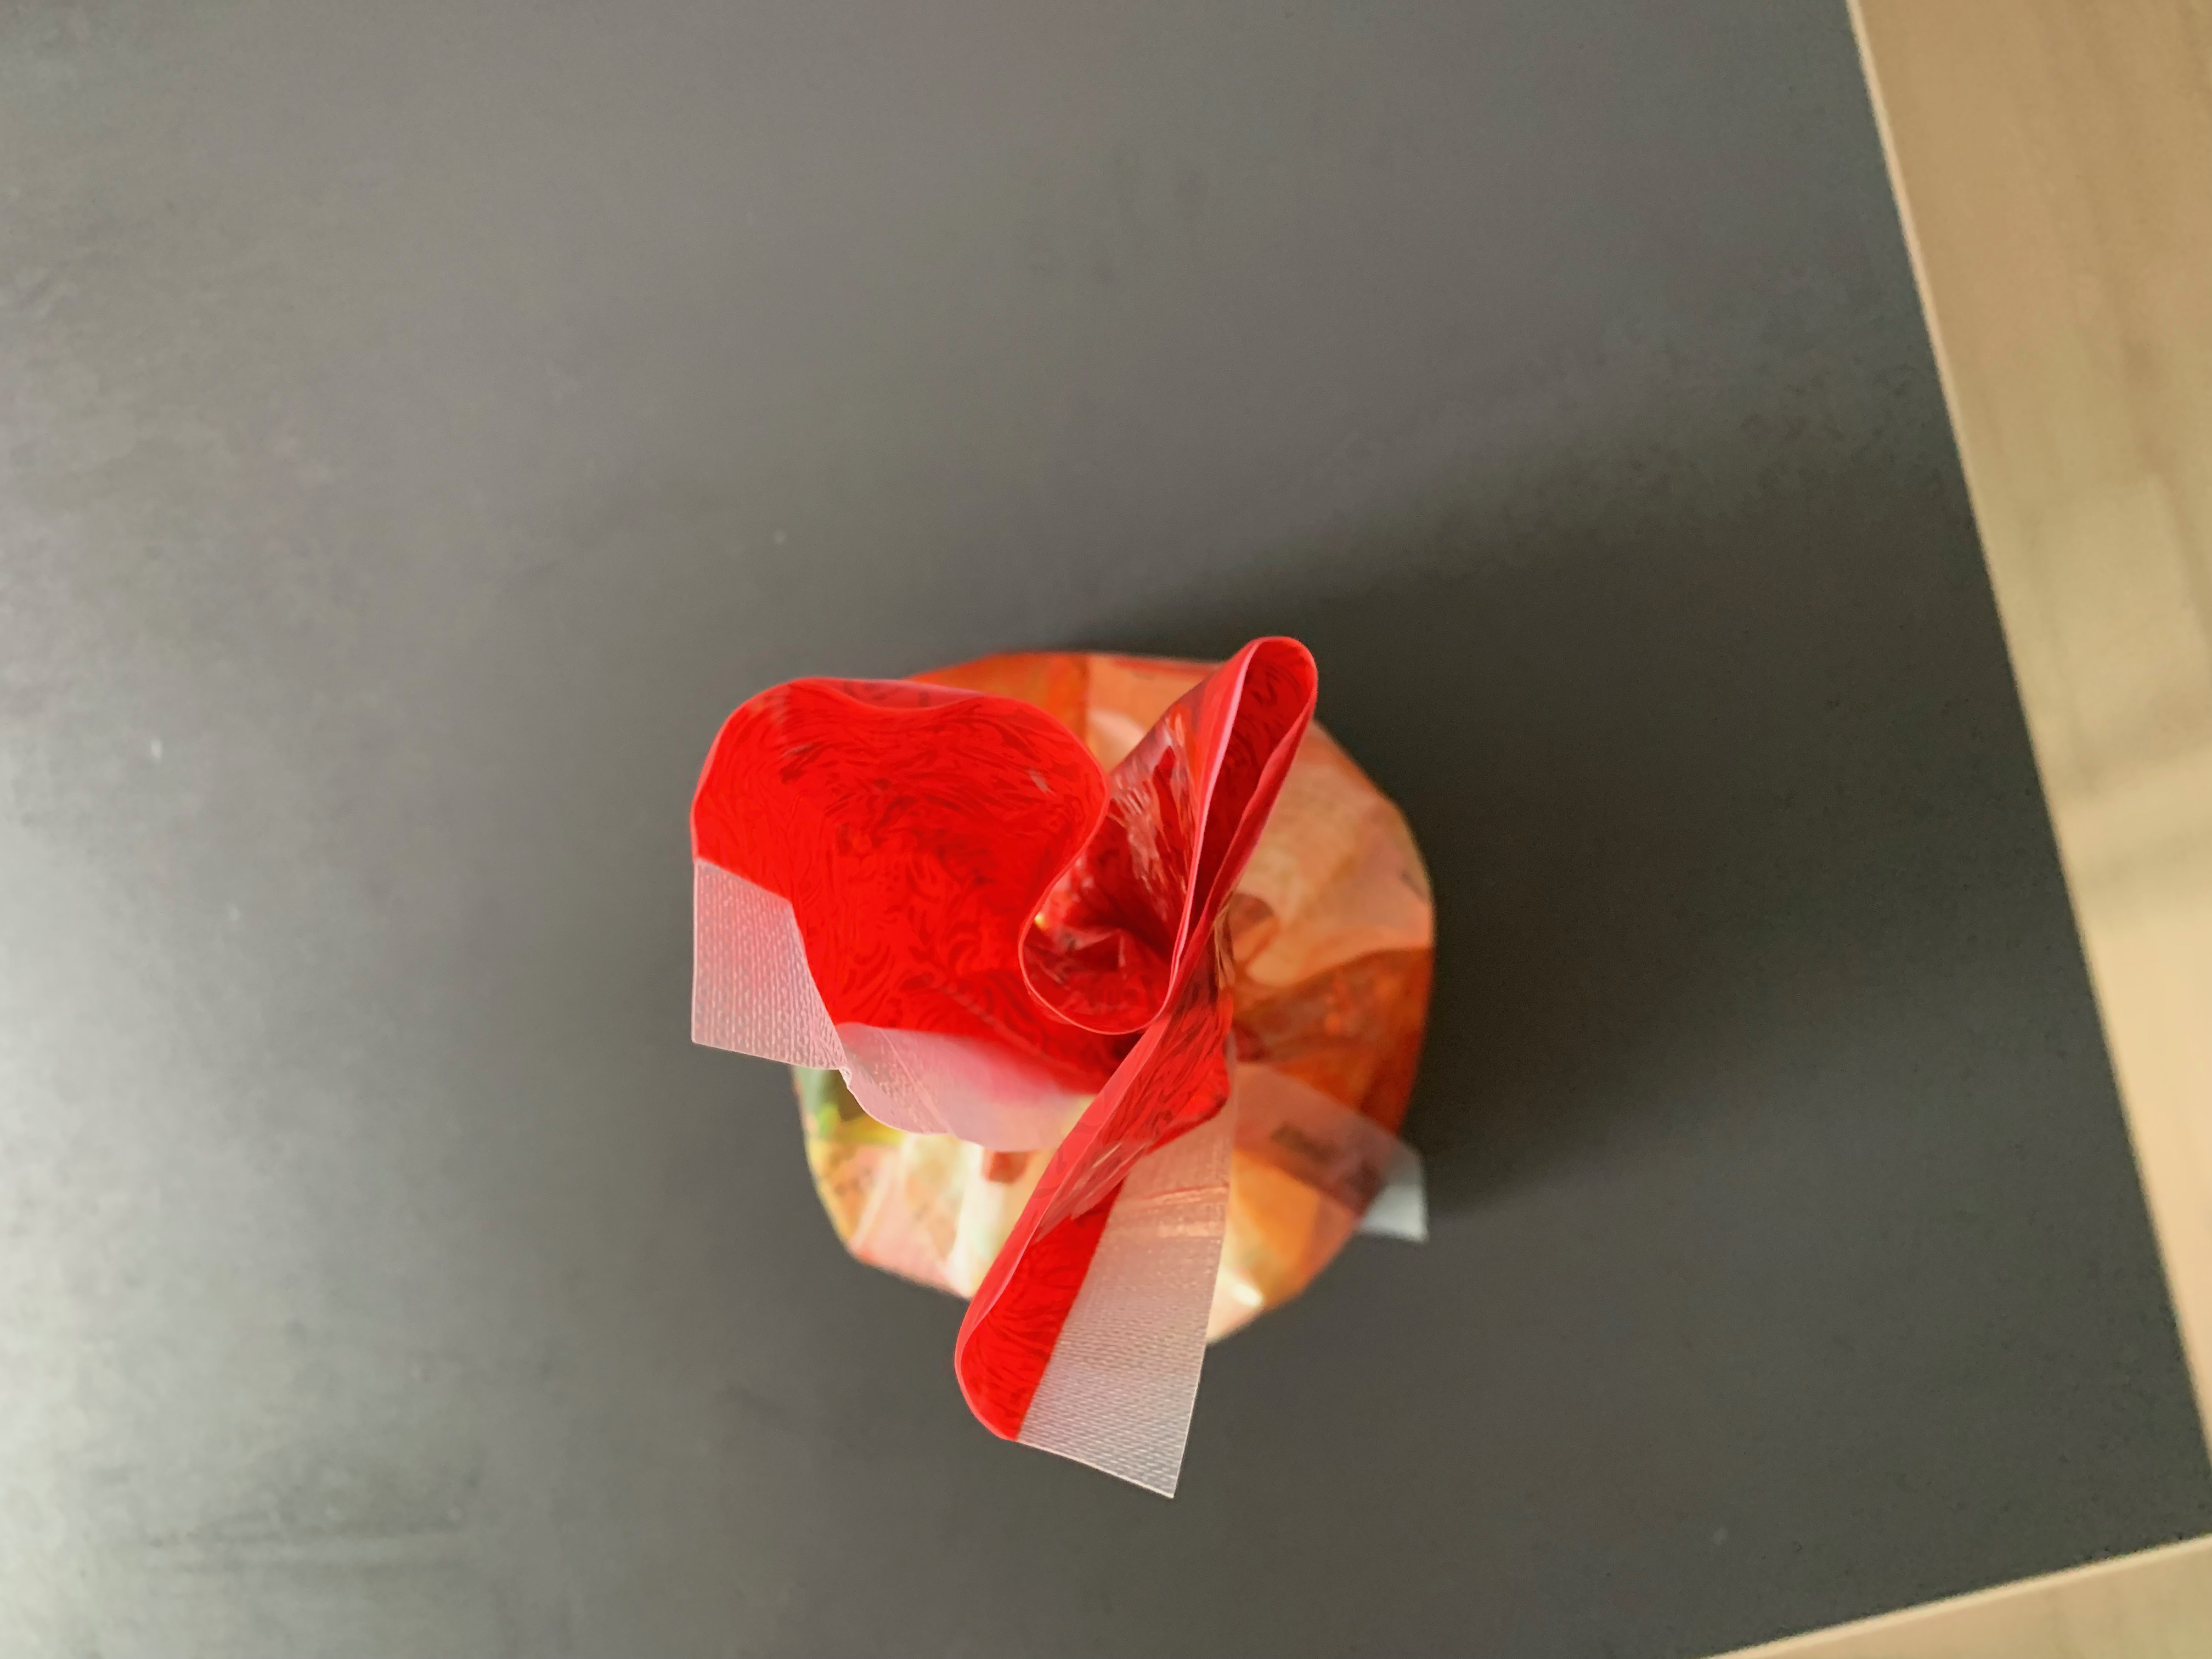kimchi: (691, 636, 1440, 1415)
